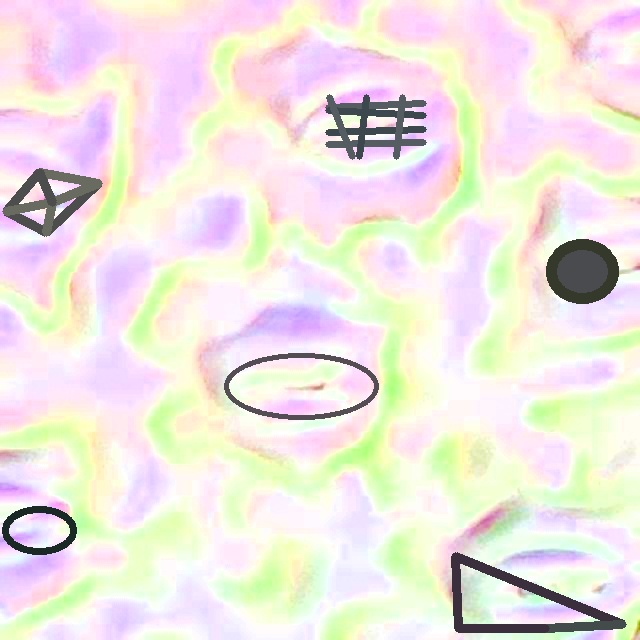open: (455, 553, 625, 631), (223, 353, 379, 418), (2, 168, 101, 235), (325, 94, 426, 159), (546, 240, 618, 302), (1, 505, 78, 555)
